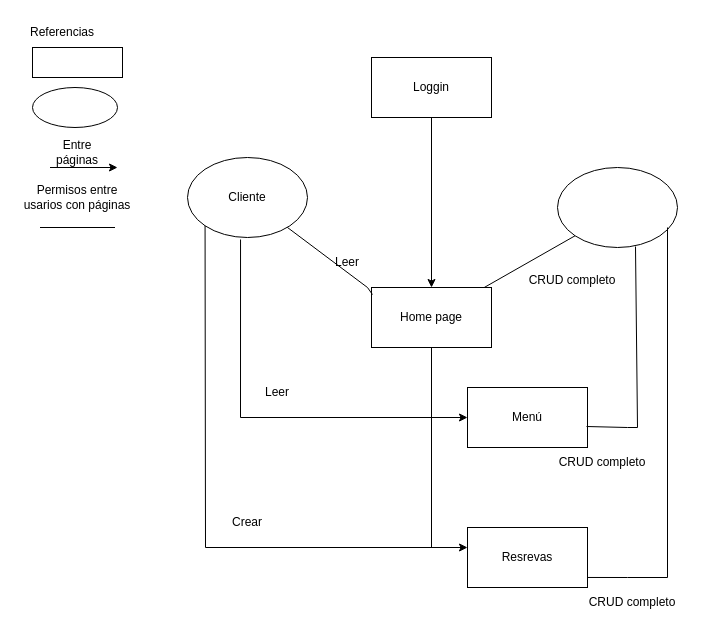
Image size: 704x634. Some labels were removed from this diagram. Each missing label, with the centre of its shape:
"Admin." belongs at point (617, 207).
"Página" belongs at point (77, 62).
"Tipo de usuario" belongs at point (75, 107).
